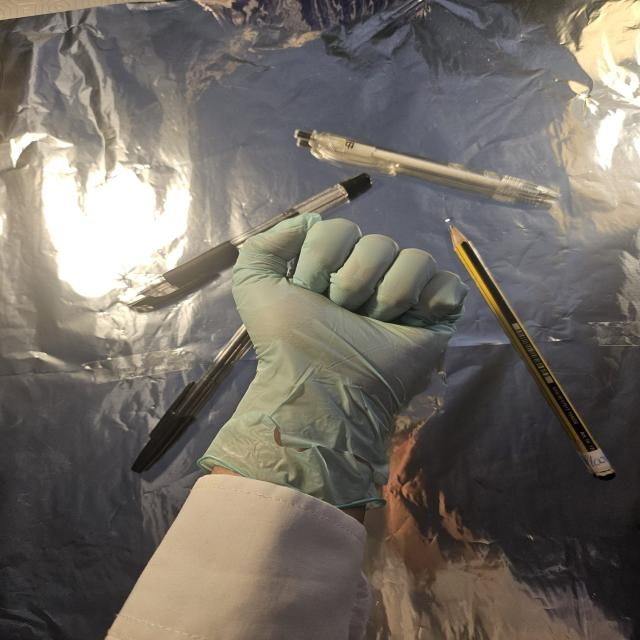gloves_damaged: (195, 212, 474, 514)
